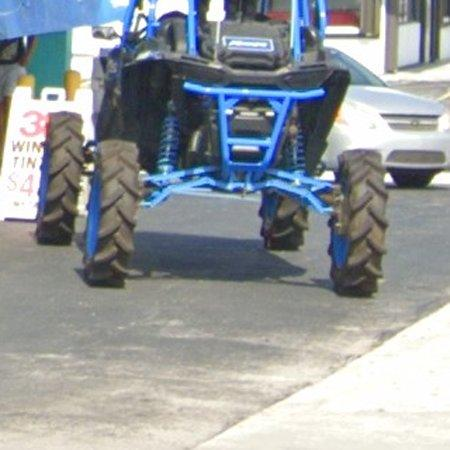tractors: (84, 0, 389, 297), (36, 112, 83, 244)
